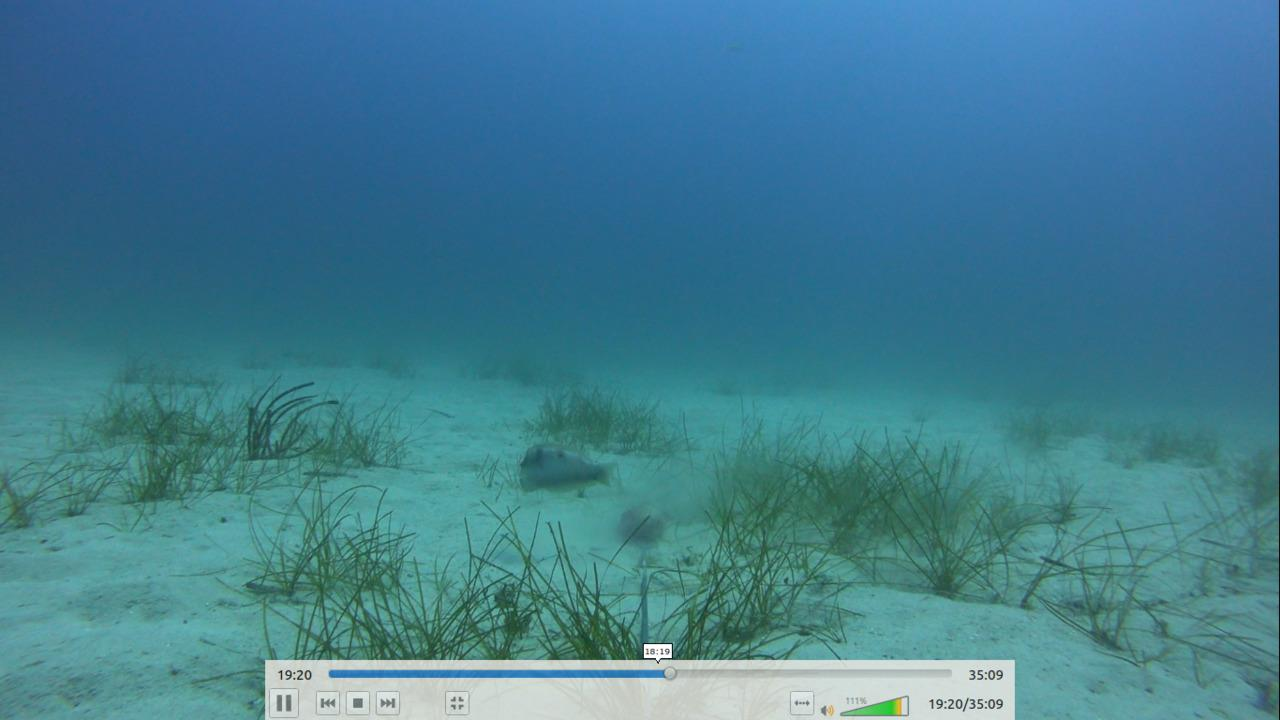raor: (515, 441, 615, 497)
